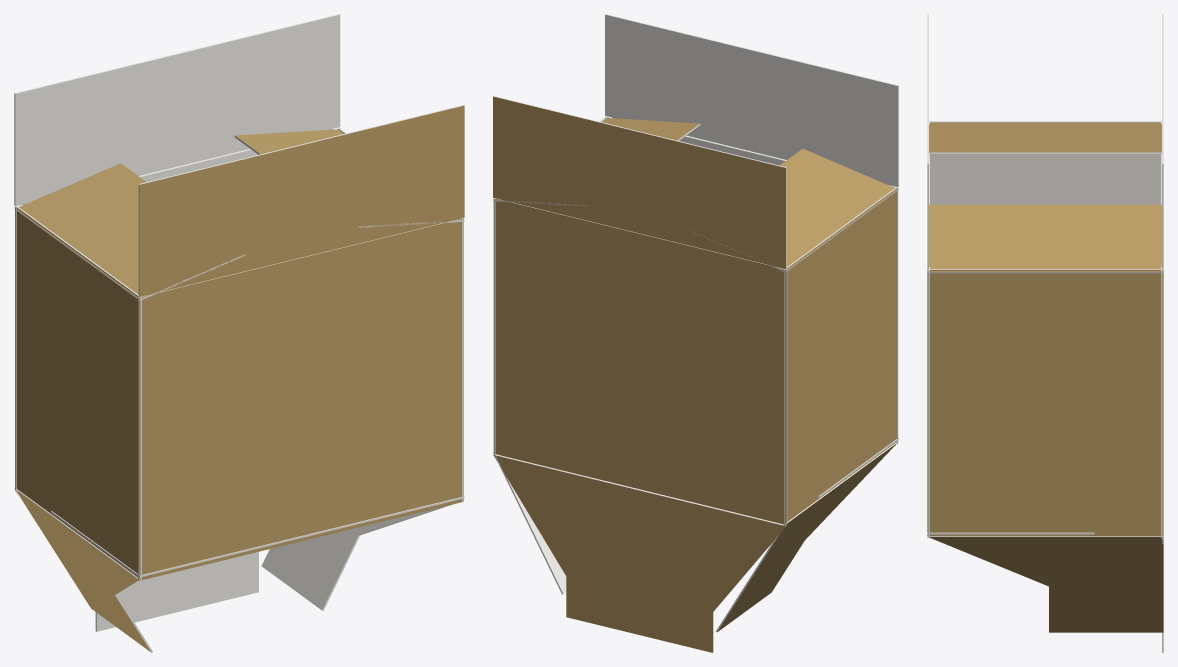
3 renders of one model, left to right at view 1: azimuth 30°, elevation 25°; view 2: azimuth 150°, elevation 25°; view 3: azimuth 270°, elevation 25°, orthographic. The views are drawn at different scales.
Visible parts, largest first — view 1: Packive_Box_fefco0216; view 2: Packive_Box_fefco0216; view 3: Packive_Box_fefco0216.
Boxes of the visible parts, x1,y1,x2,y2 form: Packive_Box_fefco0216: [14, 14, 464, 652]; Packive_Box_fefco0216: [493, 14, 898, 652]; Packive_Box_fefco0216: [927, 14, 1163, 652].
Size of the model in its own units: 0.3 by 0.492 by 0.2.
26 materials, 13 textured.
